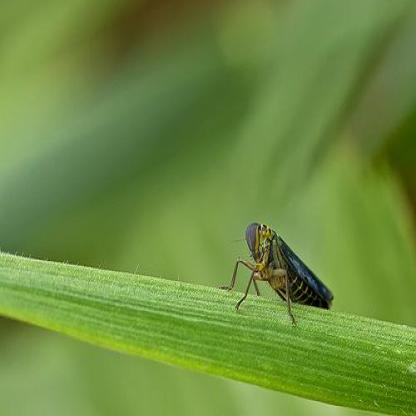Green-Leafhopper: (217, 217, 336, 325)
